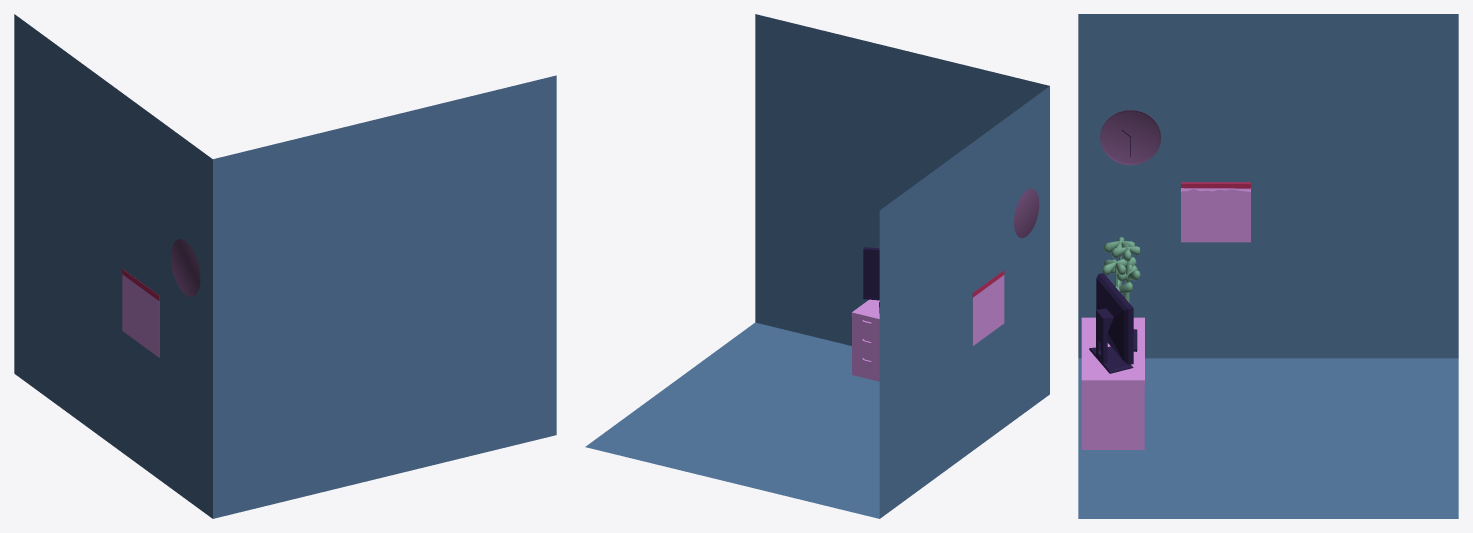
File: rescheduled.glb
The picture shows the model from 3 angles, left to right: view 1: azimuth 30°, elevation 25°; view 2: azimuth 150°, elevation 25°; view 3: azimuth 270°, elevation 25°; orthographic projection. The views are drawn at different scales.
Visible parts, largest first — view 1: Cube.003, Cube.004, Circle; view 2: Cube.003, Cube, Cube.004, Circle, Cube.001; view 3: Cube.003, Cube, Cube.004, Cube.001, Circle, Plane.002, Plane.
Boxes of the visible parts, x1,y1,x2,y2 form: Cube.003: (14,14,556,518); Cube.004: (122,269,159,357); Circle: (170,239,200,296); Cube.003: (585,14,1049,518); Cube: (851,299,879,381); Cube.004: (972,270,1004,345); Circle: (1014,188,1039,238); Cube.001: (863,247,879,313); Cube.003: (1078,14,1458,518); Cube: (1081,317,1144,449); Cube.004: (1180,182,1250,242); Cube.001: (1089,273,1133,373); Circle: (1100,110,1161,165); Plane.002: (1111,244,1140,302); Plane: (1102,259,1132,293).
Size of the model in its own units: 3.6 by 3.6 by 3.6.
6 materials, 1 textured.
